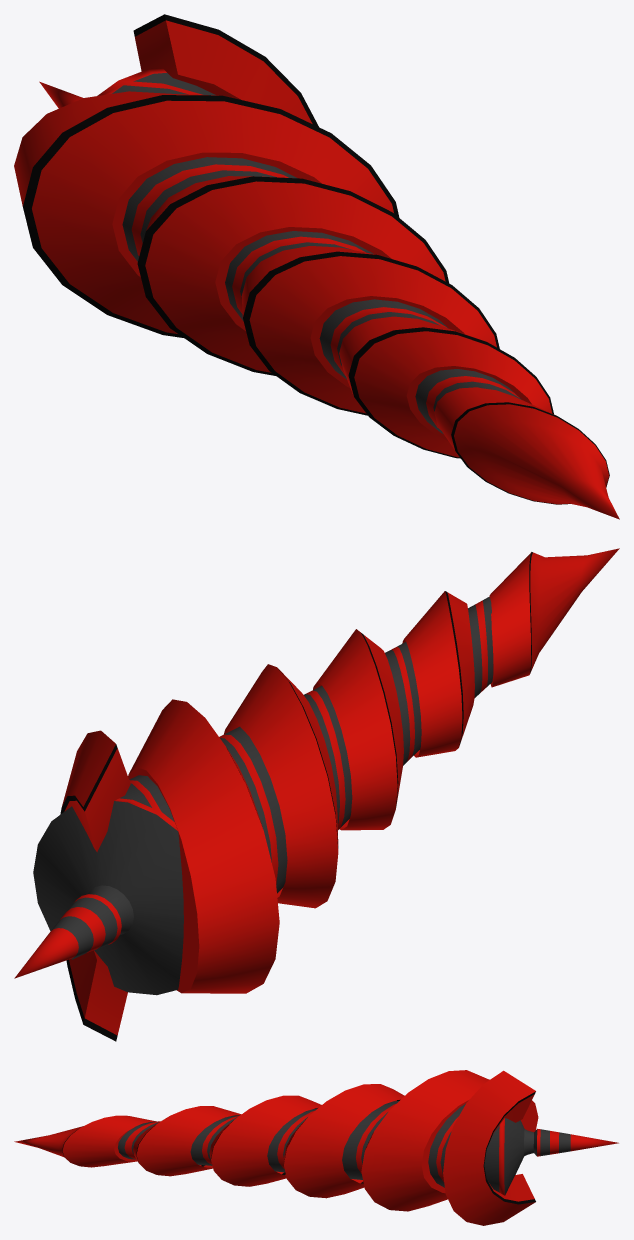
File: boss misailu.fbx
3 renders of one model, top to bottom at view 1: azimuth 30°, elevation 25°; view 2: azimuth 150°, elevation 25°; view 3: azimuth 270°, elevation 25°, orthographic. The views are drawn at different scales.
Parts seen in each view (by area): view 1: yari:pCone1; view 2: yari:pCone1; view 3: yari:pCone1.
Part boxes in pixels (<box>): yari:pCone1: <box>14,14,619,519</box>; yari:pCone1: <box>14,548,619,1041</box>; yari:pCone1: <box>14,1070,618,1225</box>.
Size of the model in its own units: 26.58 by 28.99 by 105.
